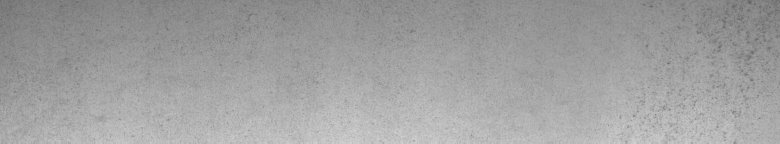ib: (644, 4, 776, 120)
